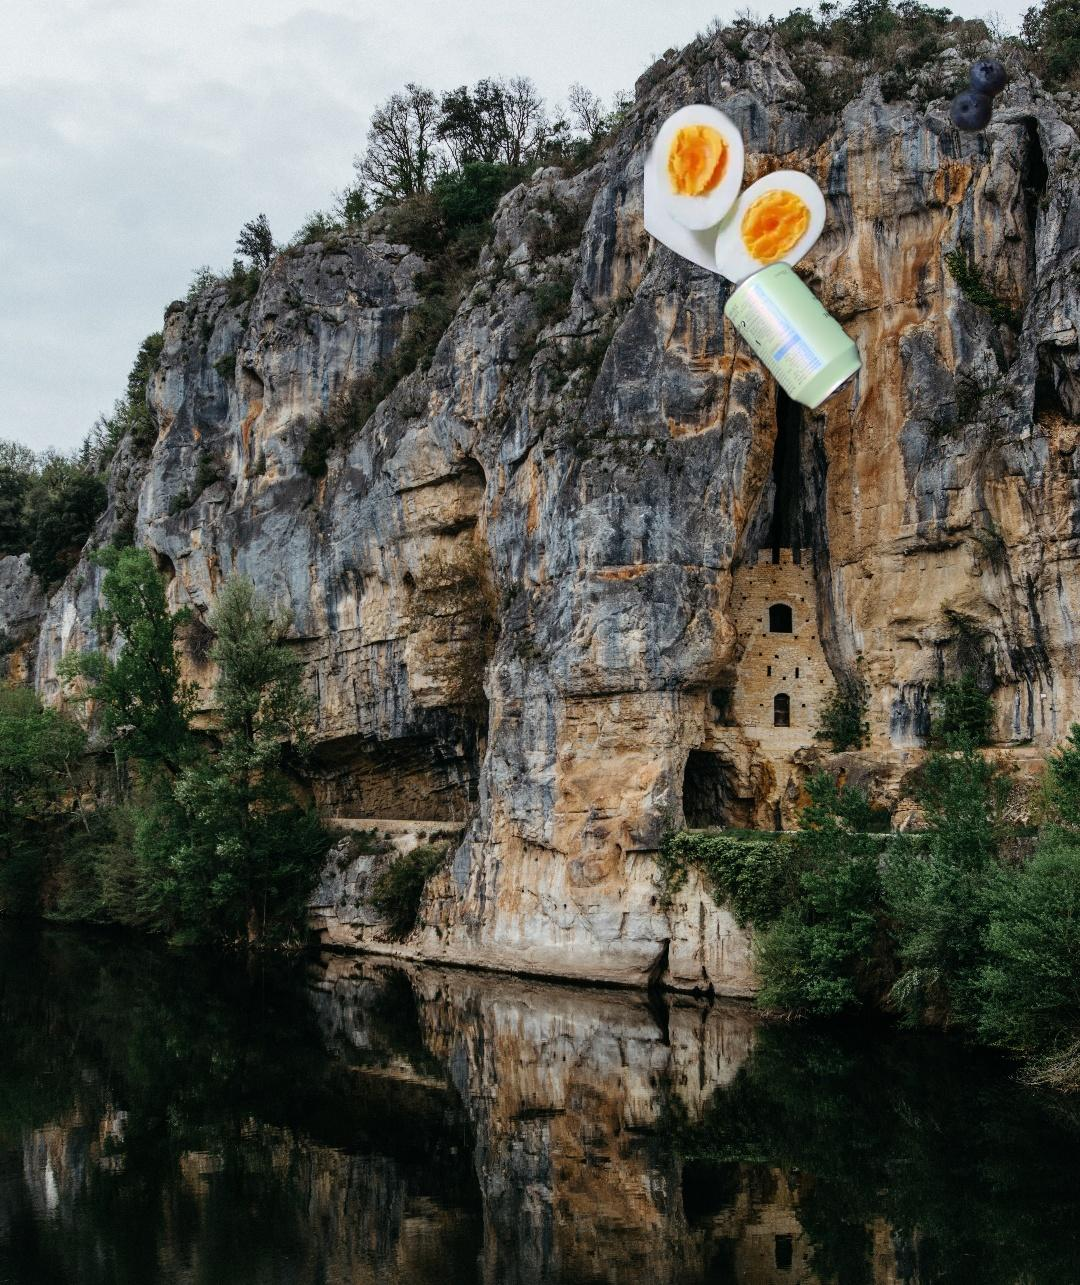biological: (644, 1, 1051, 298)
metal-cans: (719, 257, 1080, 450)
